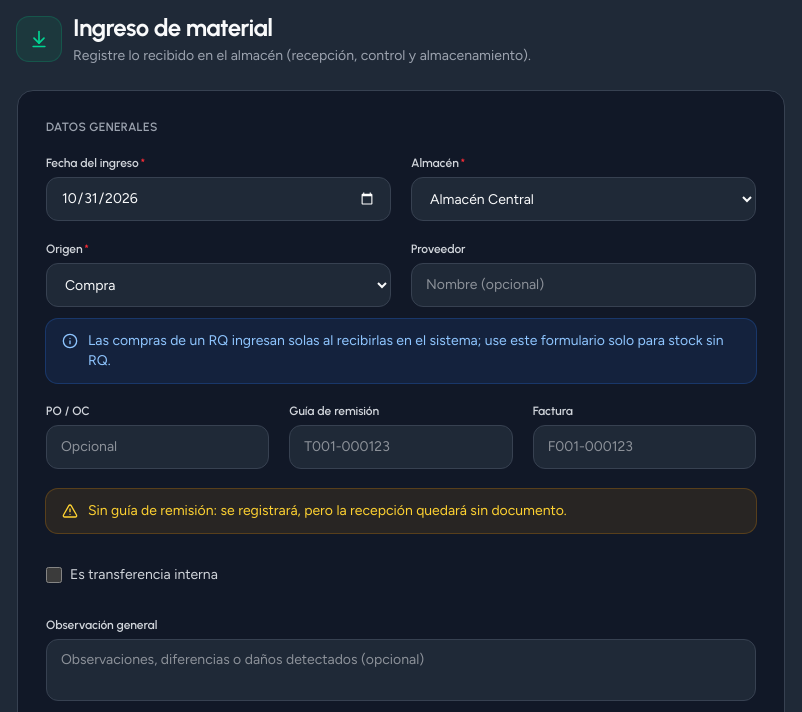
Test: EntradaPage — aviso de las compras de un RQ › con cualquier otro origen no aparece
Select "Devolución" in the dropdown labelled "Origen*" at (218, 285), box left=46, top=263, right=391, bottom=307
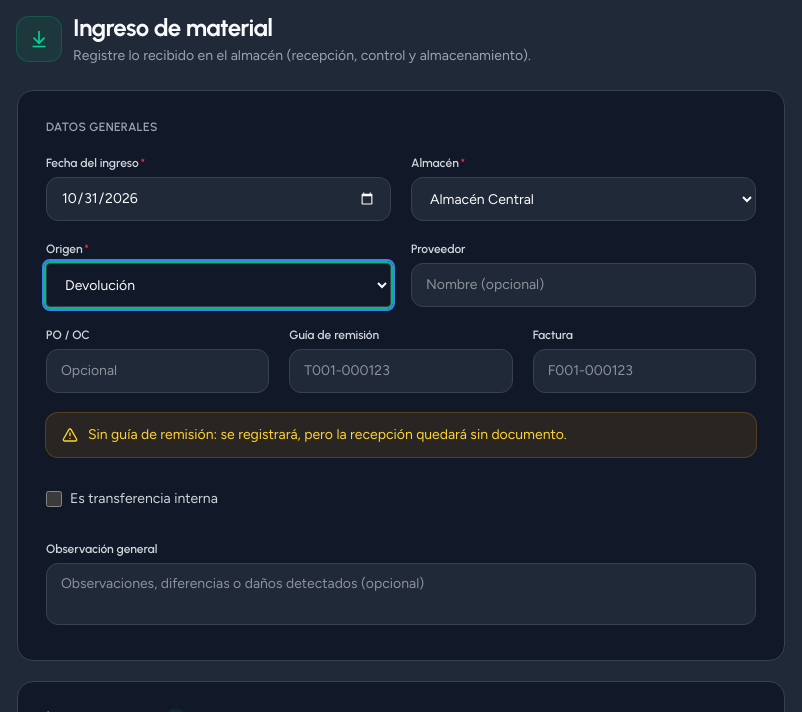
Expected: the text "Las compras de un RQ ingresan solas al recibirlas en el sistema; use este formulario solo para stock sin RQ." is gone
Select "Transferencia entrante" in the dropdown labelled "Origen*" at (218, 285), box left=46, top=263, right=391, bottom=307
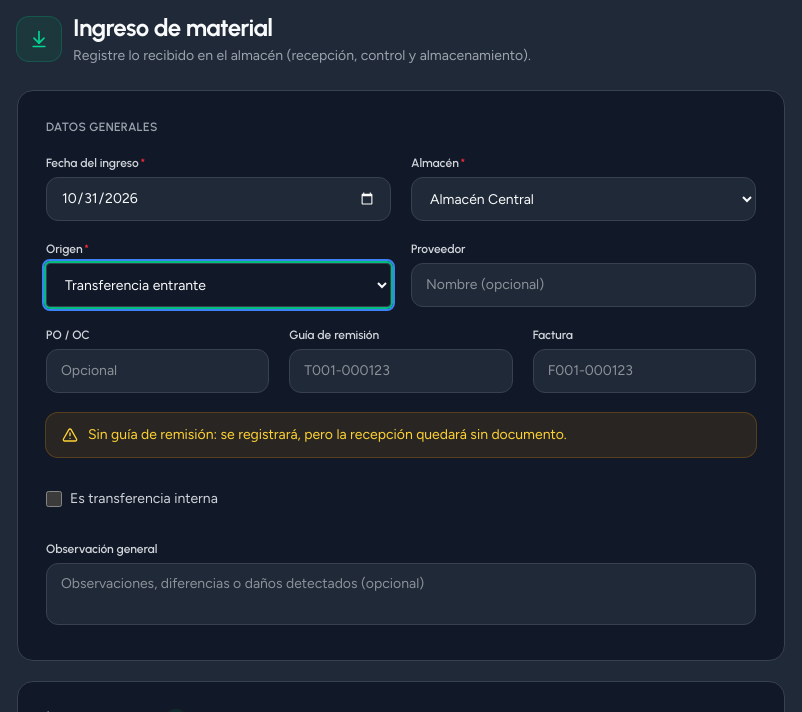
Select "Carga inicial" in the dropdown labelled "Origen*" at (218, 285), box left=46, top=263, right=391, bottom=307
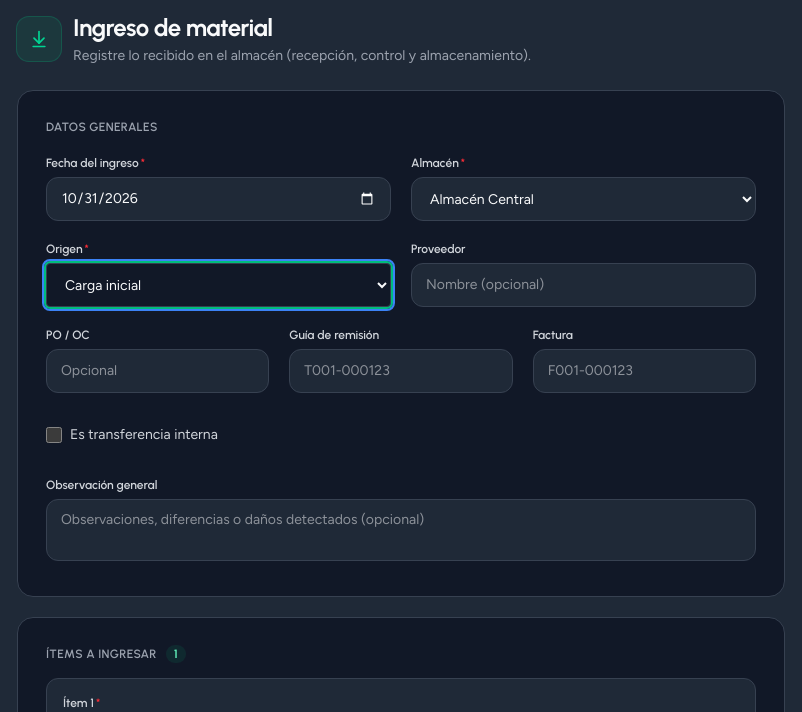
Select "Ajuste" in the dropdown labelled "Origen*" at (218, 285), box left=46, top=263, right=391, bottom=307
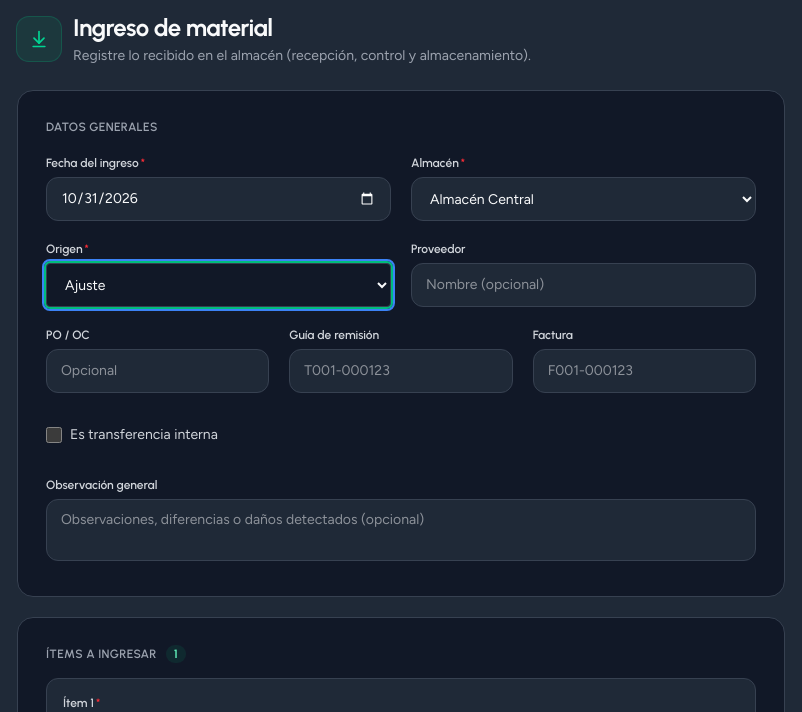
Select "Compra" in the dropdown labelled "Origen*" at (218, 285), box left=46, top=263, right=391, bottom=307
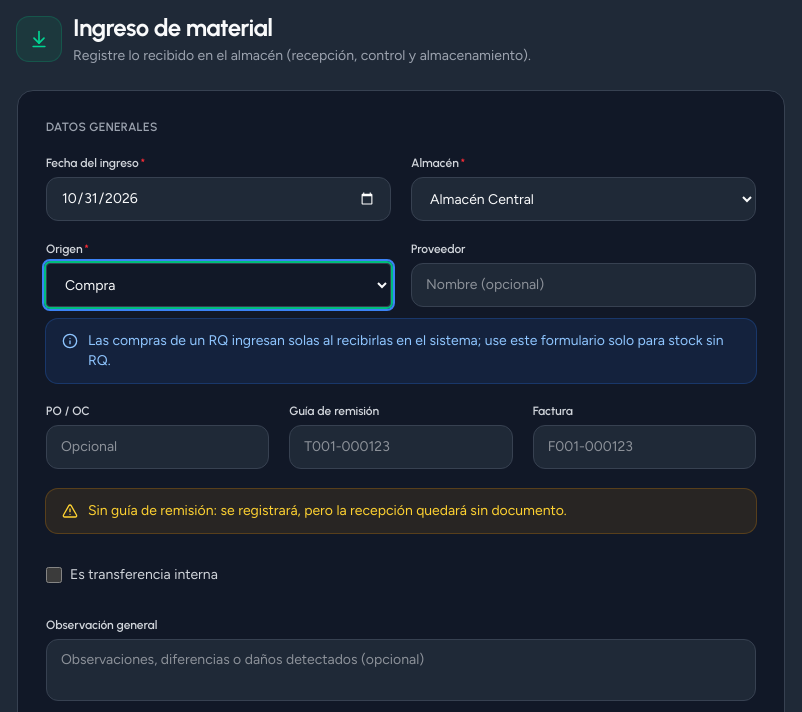
Expected: the text "Las compras de un RQ ingresan solas al recibirlas en el sistema; use este formulario solo para stock sin RQ." is shown, left=88, top=332, right=724, bottom=369
